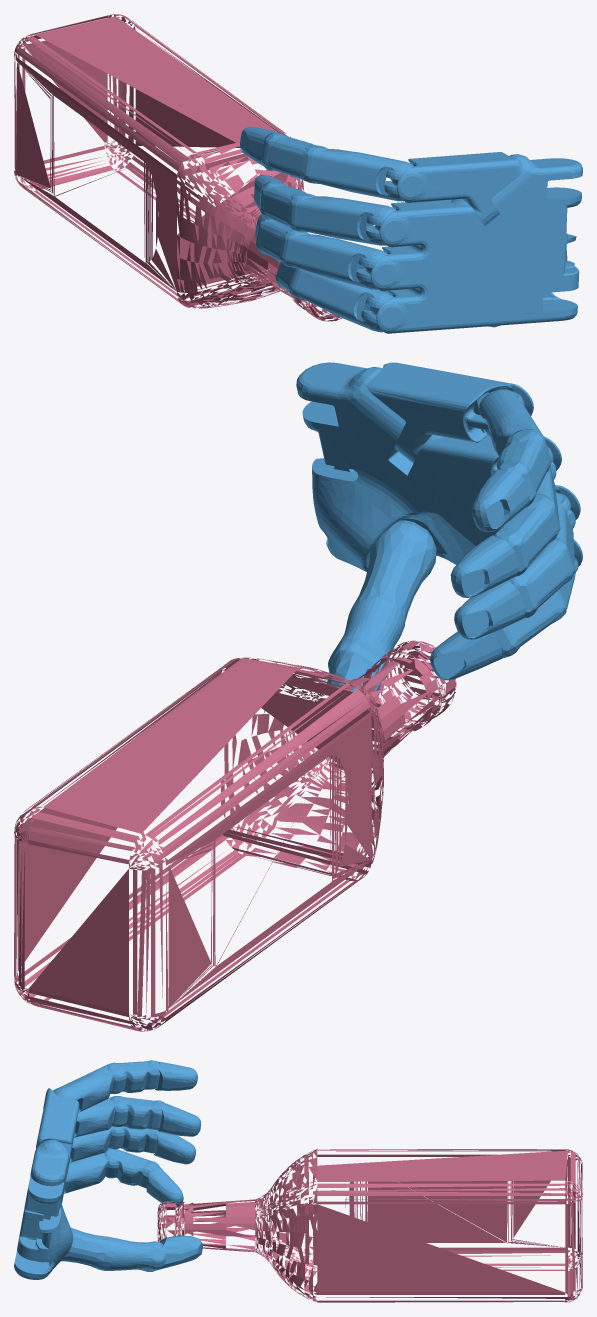
The picture shows the model from 3 angles, top to bottom: view 1: azimuth 30°, elevation 25°; view 2: azimuth 150°, elevation 25°; view 3: azimuth 270°, elevation 25°; orthographic projection. The views are drawn at different scales.
Visible parts, largest first — view 1: 00; view 2: 00; view 3: 00.
Part boxes in pixels (box(x1,y1,x2,y2)): 00: box(14, 14, 582, 333); 00: box(14, 362, 582, 1031); 00: box(14, 1060, 582, 1302).
Size of the model in its own units: 0.1464 by 0.1418 by 0.3623.
